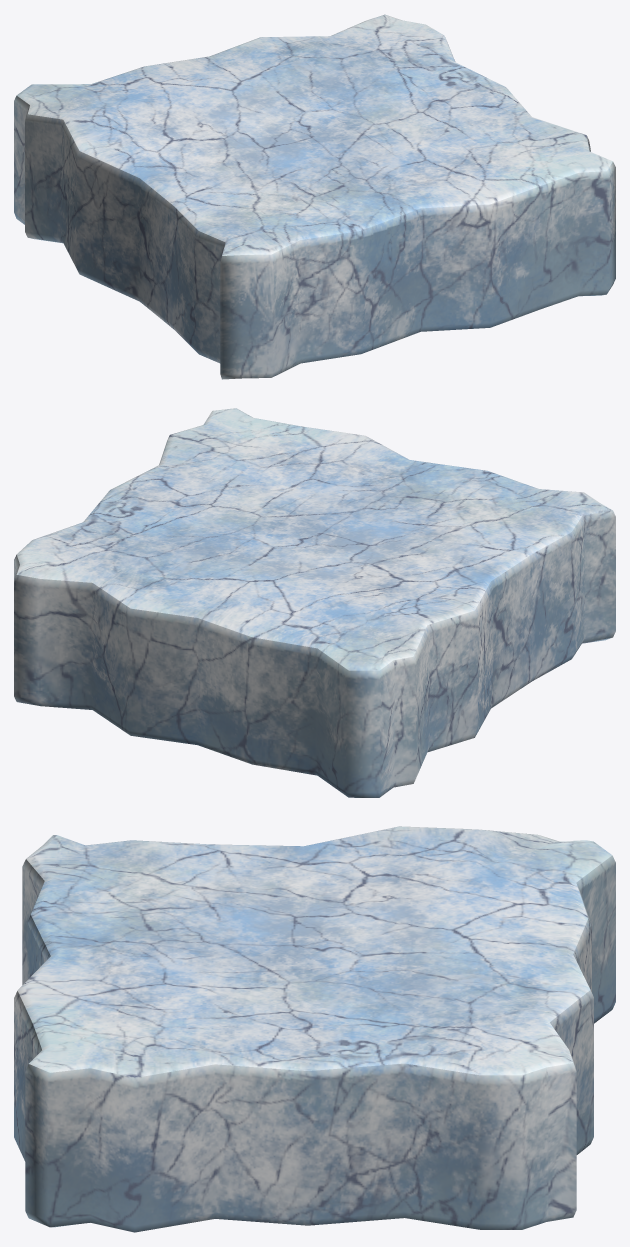
The model's file is 4_stage.fbx.
The picture shows the model from 3 angles, top to bottom: view 1: azimuth 30°, elevation 25°; view 2: azimuth 150°, elevation 25°; view 3: azimuth 270°, elevation 25°; orthographic projection. The views are drawn at different scales.
Parts seen in each view (by area): view 1: pCube324; view 2: pCube324; view 3: pCube324.
Boxes of the visible parts, left/top/right/bottom form: pCube324: left=14, top=14, right=615, bottom=379; pCube324: left=14, top=408, right=615, bottom=797; pCube324: left=14, top=826, right=615, bottom=1232.
Bounding box in the file's own units: 6.62 × 2.17 × 6.78.
1 material, 1 textured.
